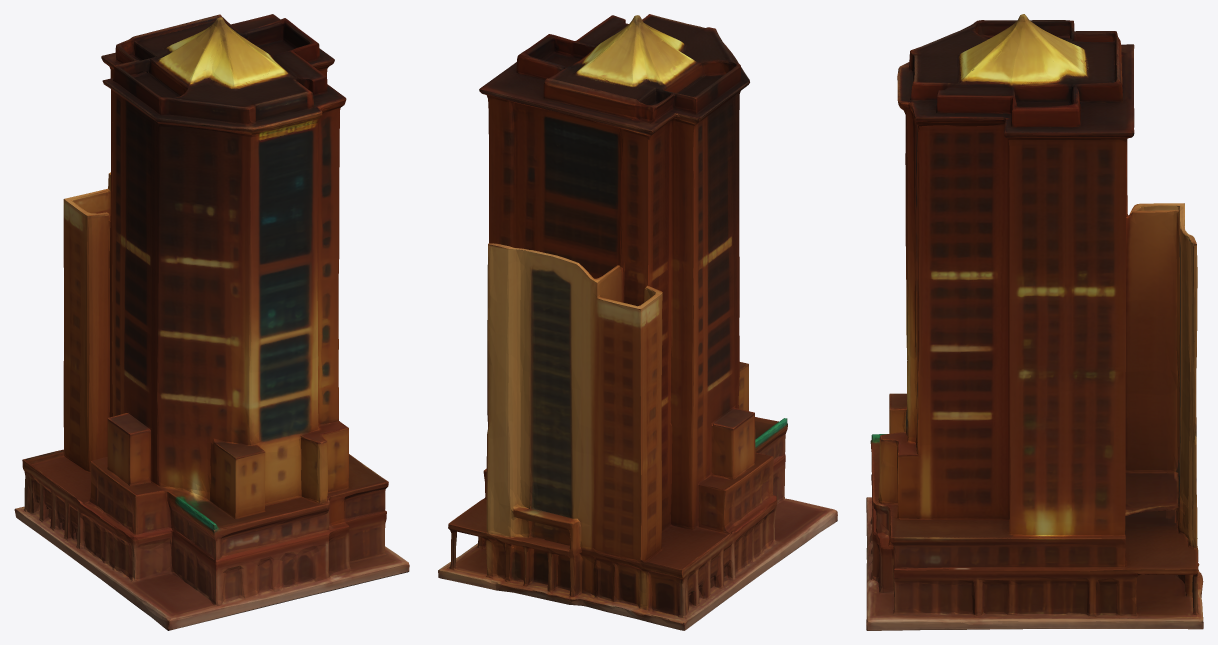
Rendered from toa_cao_oc_hcm.glb.
3 views of the same model, side by side, from view 1: azimuth 30°, elevation 25°; view 2: azimuth 150°, elevation 25°; view 3: azimuth 270°, elevation 25° (orthographic). The views are drawn at different scales.
Parts seen in each view (by area): view 1: world; view 2: world; view 3: world.
Boxes of the visible parts, x1,y1,x2,y2 form: world: [14, 14, 409, 630]; world: [438, 14, 837, 630]; world: [866, 14, 1203, 630].
Bounding box in the file's own units: 0.4786 × 1 × 0.548.
Materials: 1 (1 with a texture image).
